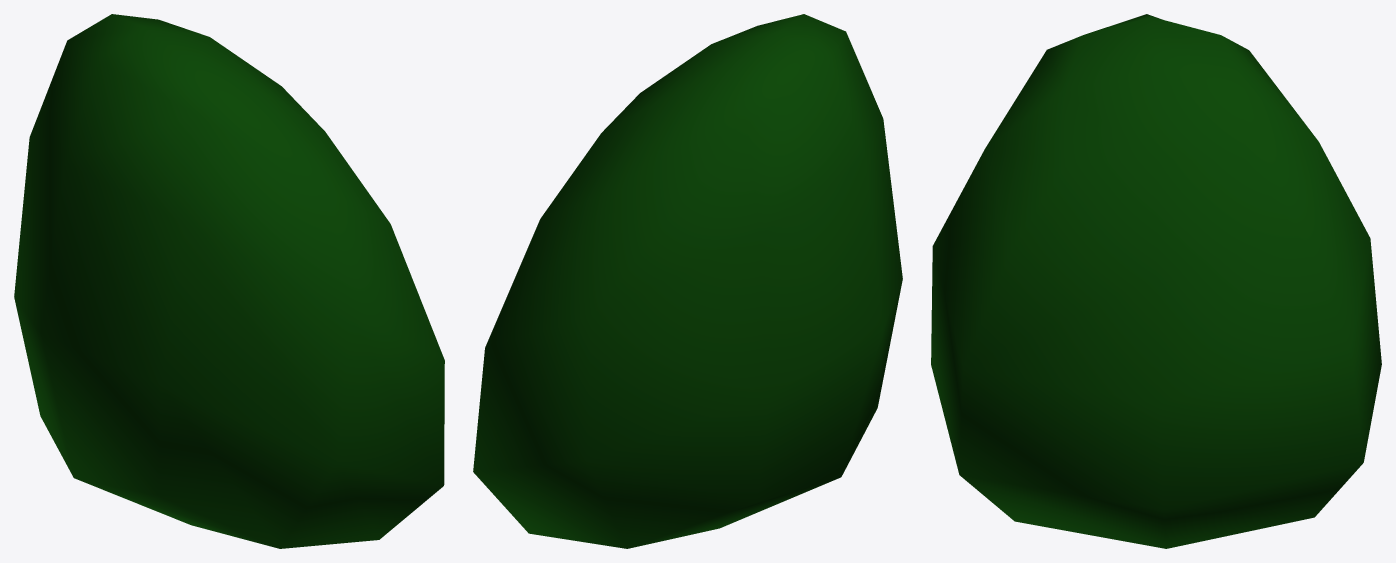
Rendered from Pedra_Quadrada02.fbx.
3 renders of one model, left to right at view 1: azimuth 30°, elevation 25°; view 2: azimuth 150°, elevation 25°; view 3: azimuth 270°, elevation 25°, orthographic. The views are drawn at different scales.
Parts seen in each view (by area): view 1: Cube; view 2: Cube; view 3: Cube.
Part boxes in pixels (box(x1,y1,x2,y2)): Cube: box(14, 14, 444, 548); Cube: box(473, 14, 902, 548); Cube: box(931, 14, 1381, 548).
Size of the model in its own units: 135 by 194 by 174.
